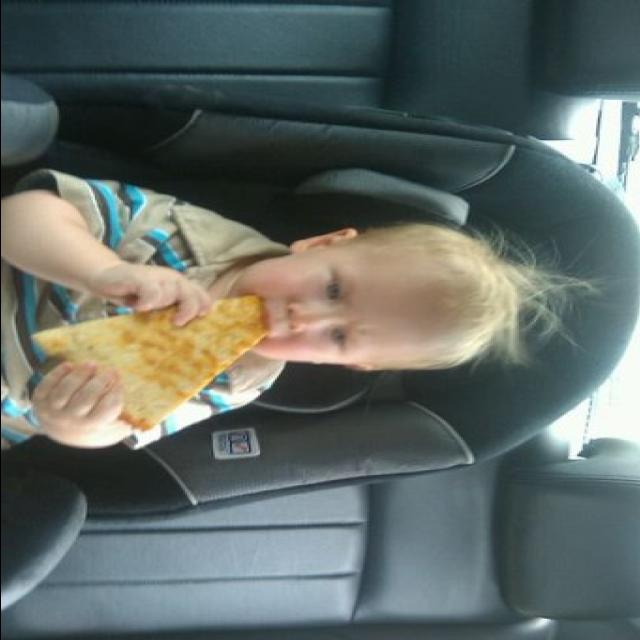pizza: (29, 292, 263, 432)
